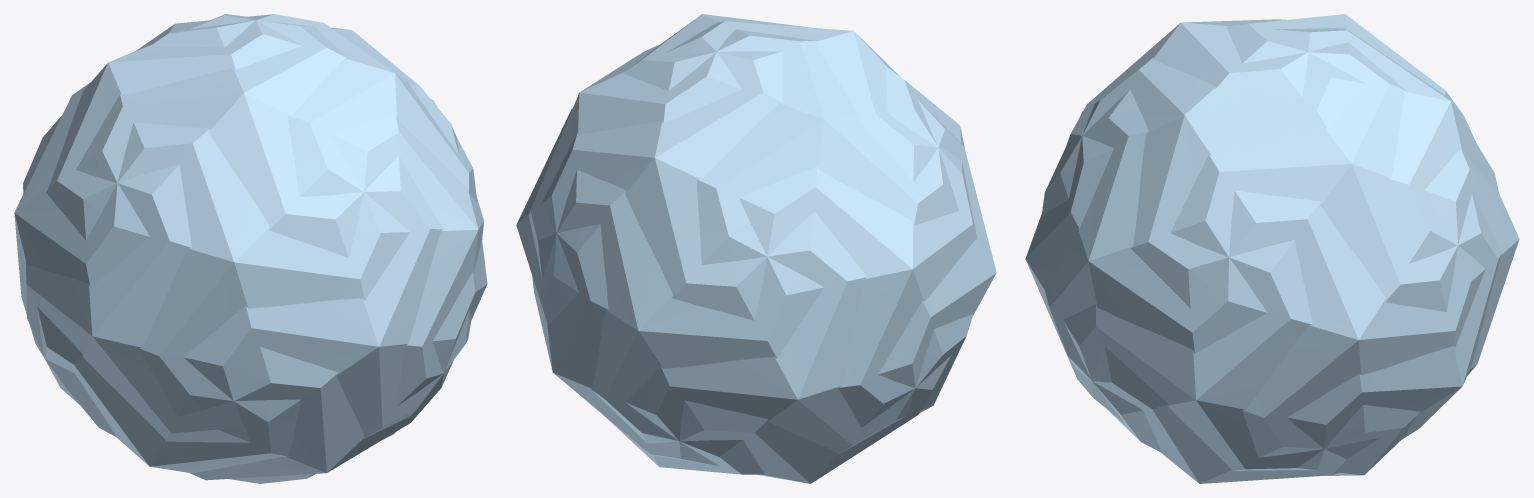
File: dodecapinwheel.fbx
3 views of the same model, side by side, from view 1: azimuth 30°, elevation 25°; view 2: azimuth 150°, elevation 25°; view 3: azimuth 270°, elevation 25° (orthographic). The views are drawn at different scales.
Visible parts, largest first — view 1: Polyhedron; view 2: Polyhedron; view 3: Polyhedron.
Boxes of the visible parts, <box> form: Polyhedron: <box>14,14,487,483</box>; Polyhedron: <box>516,14,996,483</box>; Polyhedron: <box>1025,14,1519,483</box>.
Size of the model in its own units: 188 by 190 by 200.
